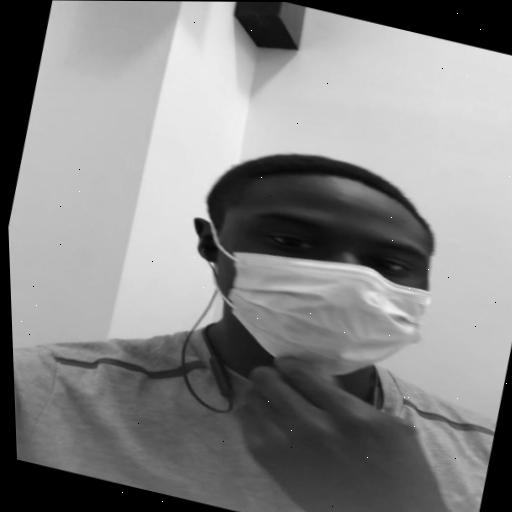mask: (182, 171, 451, 403)
